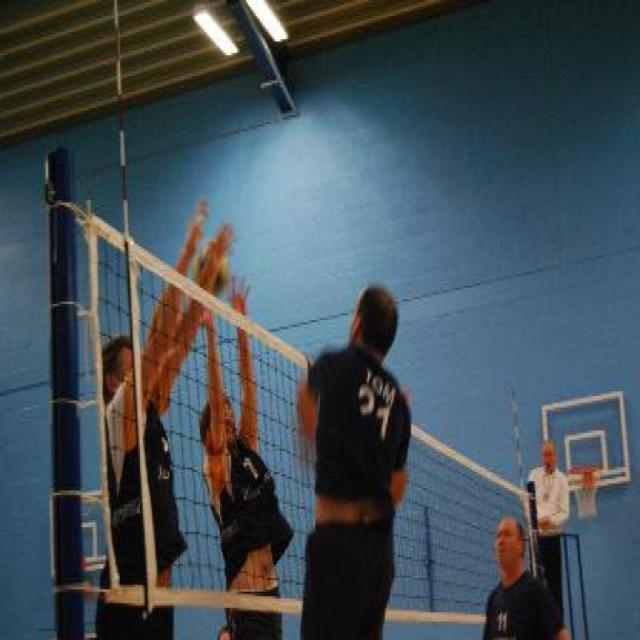volleyball: (191, 242, 231, 299)
